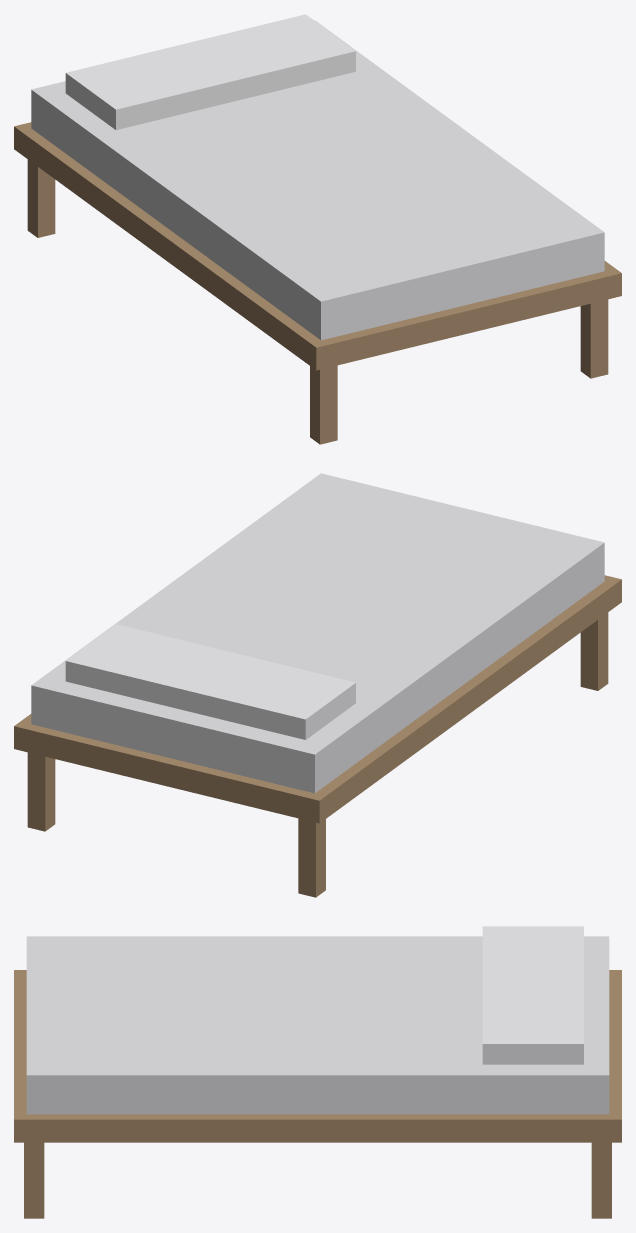
File: Bed.fbx
3 views of the same model, one above another, from view 1: azimuth 30°, elevation 25°; view 2: azimuth 150°, elevation 25°; view 3: azimuth 270°, elevation 25° (orthographic).
Visible parts, largest first — view 1: Bed; view 2: Bed; view 3: Bed.
Boxes of the visible parts, x1,y1,x2,y2 form: Bed: (14,14,621,444); Bed: (14,473,621,897); Bed: (14,926,621,1218).
Size of the model in its own units: 1.4 by 0.71 by 2.4.
